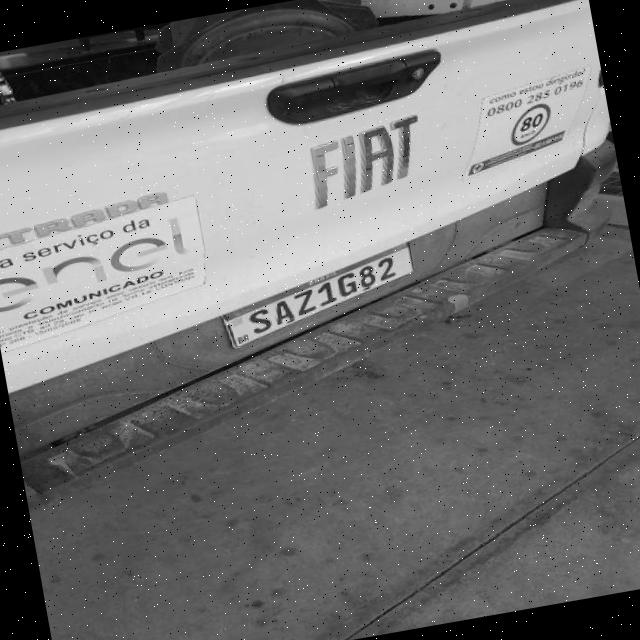placa_mercosul: (222, 240, 415, 351)
